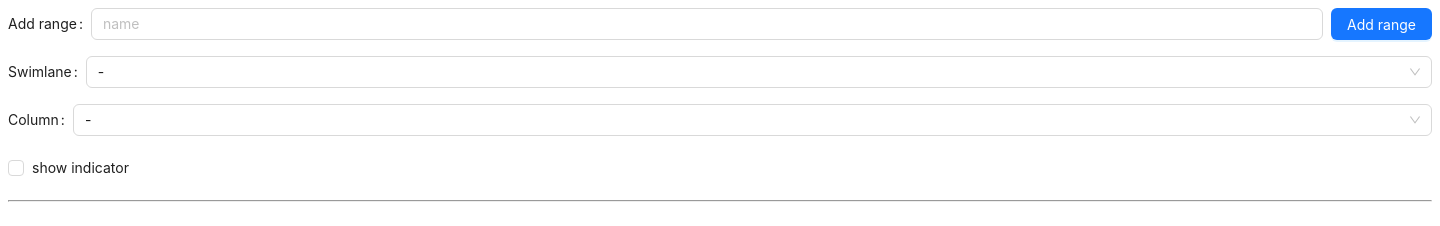
RangeForm › Validation › should disable submit when column is not selected
The width and height of the screenshot is (1440, 226).
Type "My Range" into the field with id "WIP_inputRange". click: (707, 24)
box: top-left (91, 8), bottom-right (1323, 40)
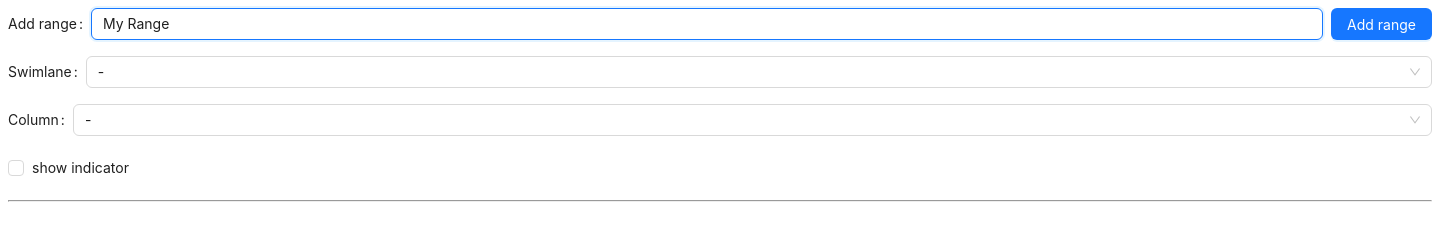
Click the element showing "-". click: click(759, 72)
box: top-left (86, 56), bottom-right (1432, 88)
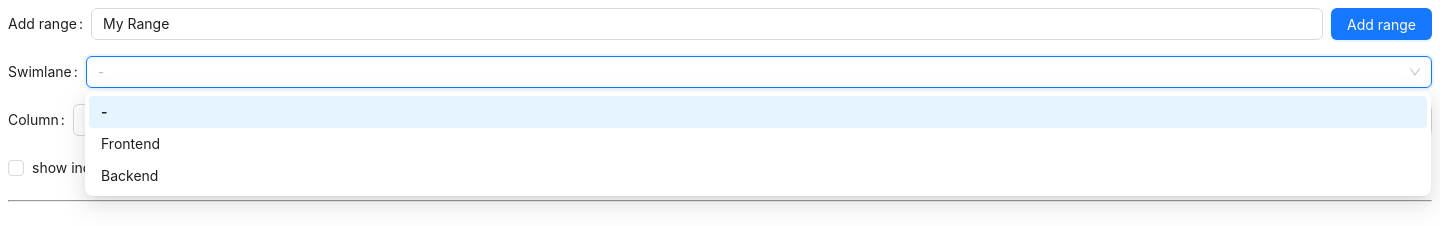
Now the element showing "- Frontend Backend" is shown, box top-left (85, 92), bottom-right (1431, 196)
Click the text "Frontend". click: click(131, 144)
box: top-left (101, 135), bottom-right (160, 152)
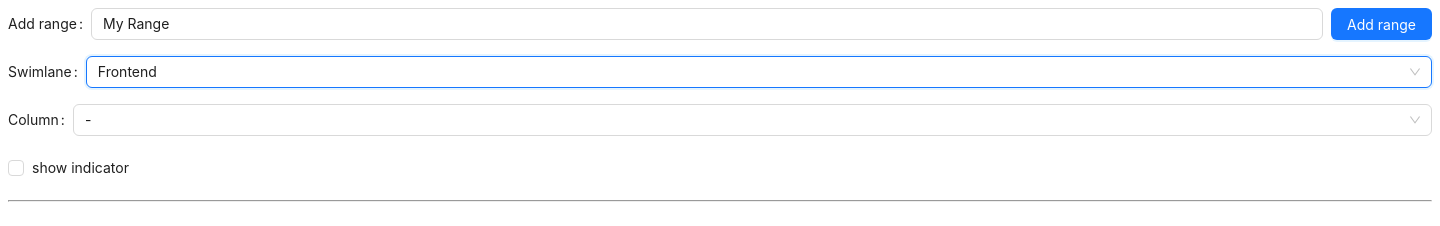
Click the button with id "WIP_buttonRange". click: click(1382, 24)
box: top-left (1331, 8), bottom-right (1432, 40)
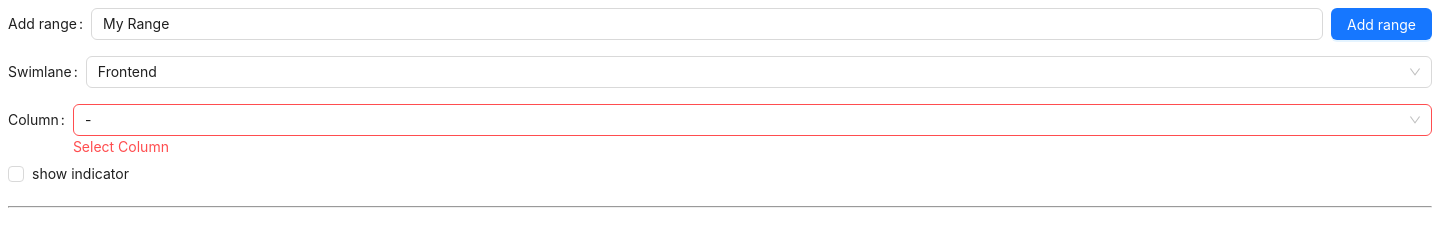
Now the text "Select Column" is shown, box top-left (73, 138), bottom-right (169, 155)
